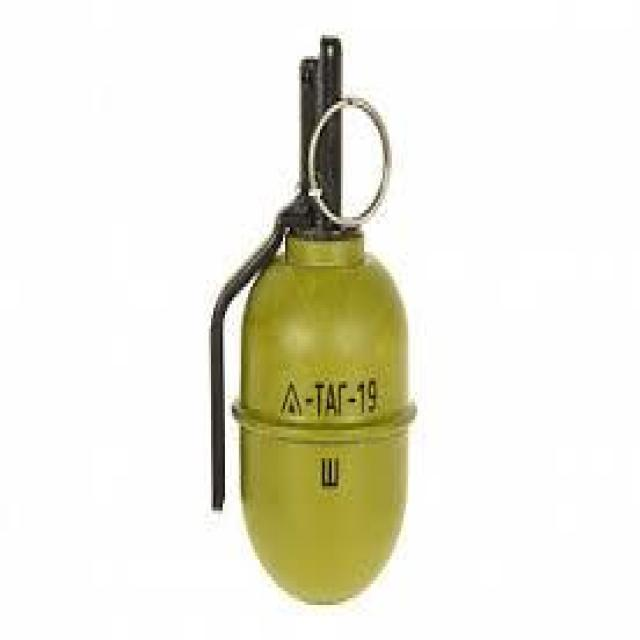grenade: (215, 35, 412, 605)
